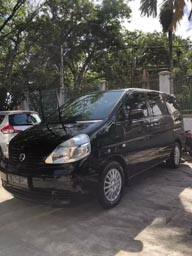plat: (6, 174, 29, 191)
